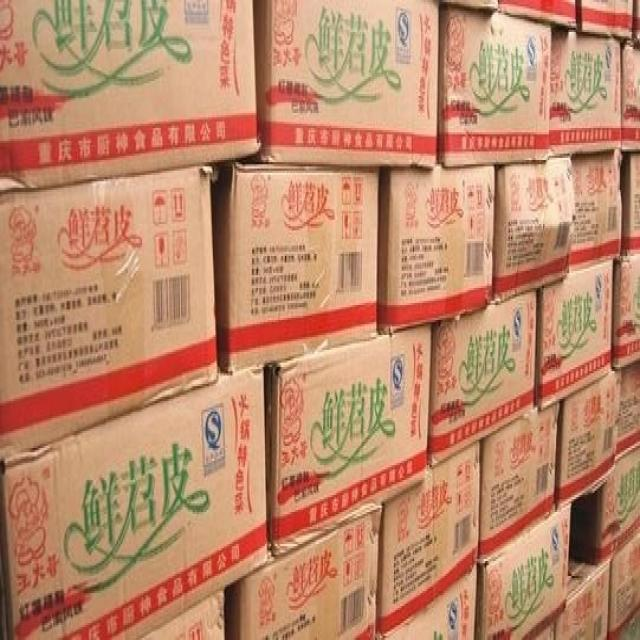box: (0, 367, 270, 640), (0, 162, 221, 463), (0, 0, 259, 198), (270, 324, 433, 548), (212, 160, 379, 369), (256, 0, 440, 171), (377, 158, 496, 335), (233, 499, 382, 640), (427, 290, 537, 467), (379, 442, 479, 636), (438, 4, 552, 166), (478, 403, 558, 565), (480, 506, 570, 640), (493, 156, 575, 303), (537, 260, 613, 410), (548, 23, 622, 160), (556, 369, 622, 506), (377, 570, 477, 640), (569, 149, 622, 271), (599, 446, 640, 565), (135, 589, 225, 640), (555, 559, 610, 640), (609, 533, 640, 640), (613, 254, 640, 367), (499, 0, 576, 30), (616, 365, 640, 461), (621, 43, 640, 151), (621, 151, 640, 256), (447, 0, 498, 9)
